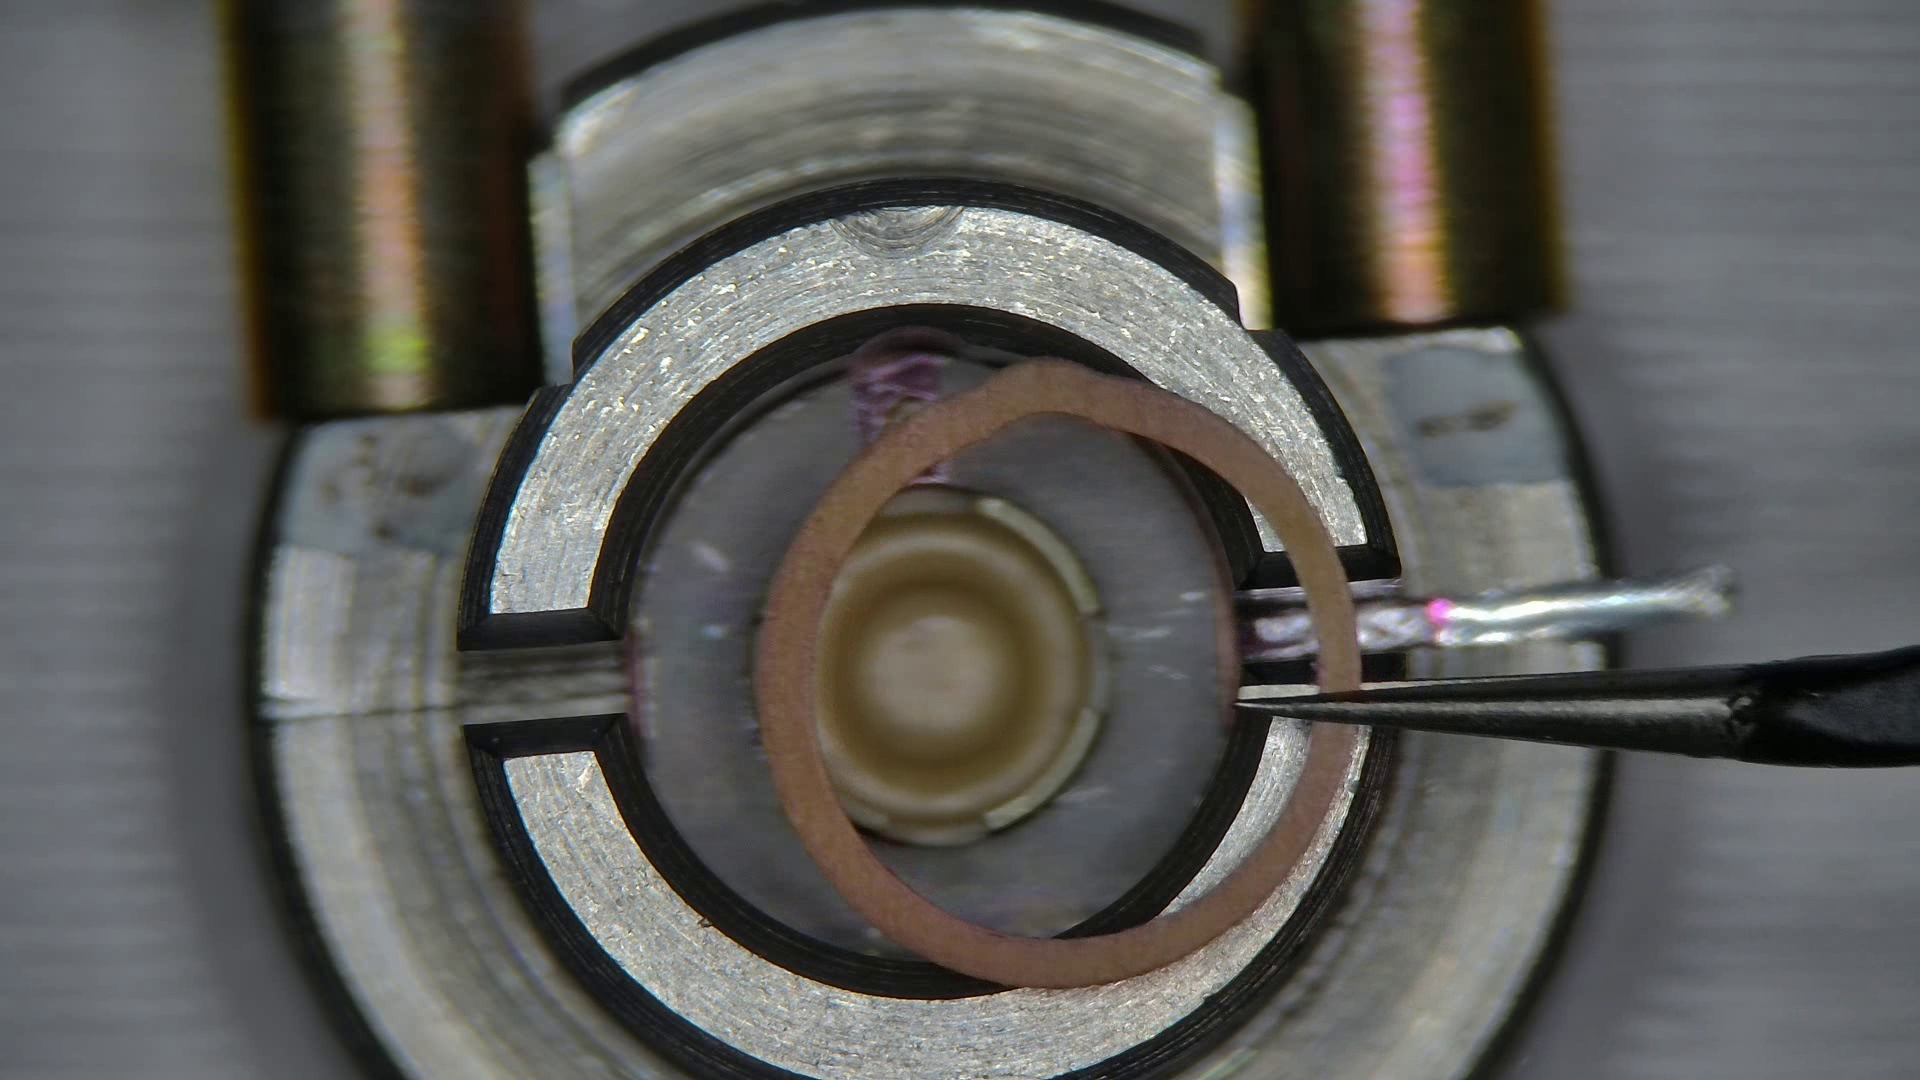GreyOring: (754, 357, 1360, 984)
YellowOring: (632, 352, 976, 952), (876, 417, 1224, 936)
